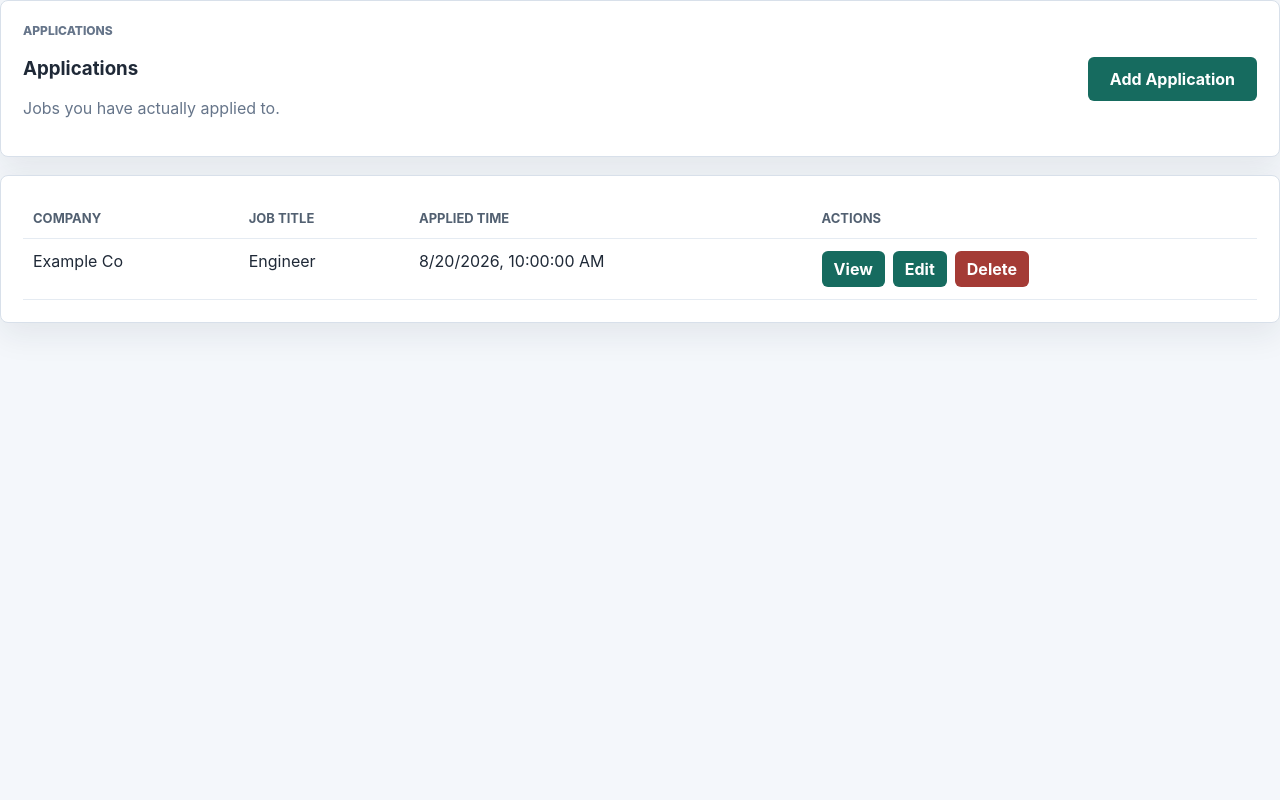
Test: Version 2.2.0 Applications › saves Company Updated Co and Position Updated Role and immediately updates the list
The image size is (1280, 800).
Expected: the text "Example Co" is shown, [23,239,239,300]
Click the button "Edit" at (920, 269), box [893,251,947,287]
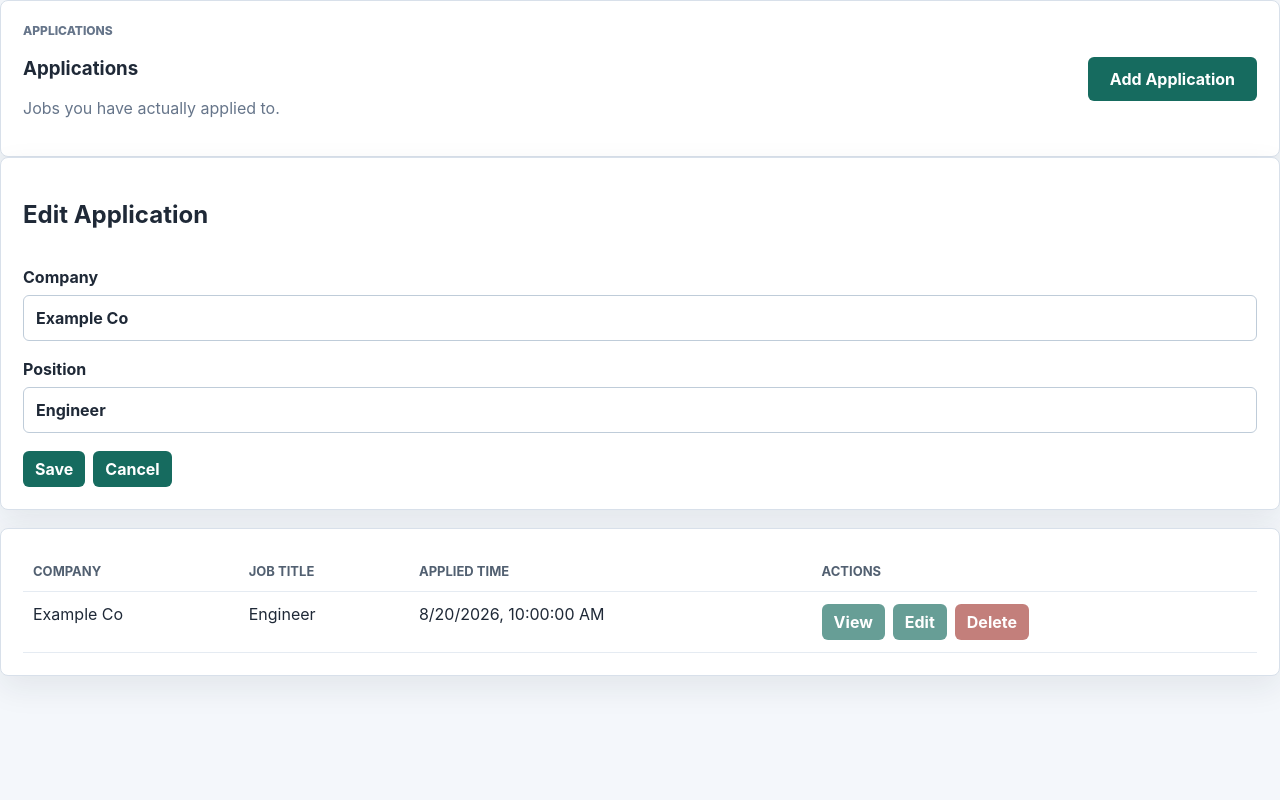
Replace the text in the field labelled "Company" with "Updated Co" at (640, 318), box [23,295,1257,341]
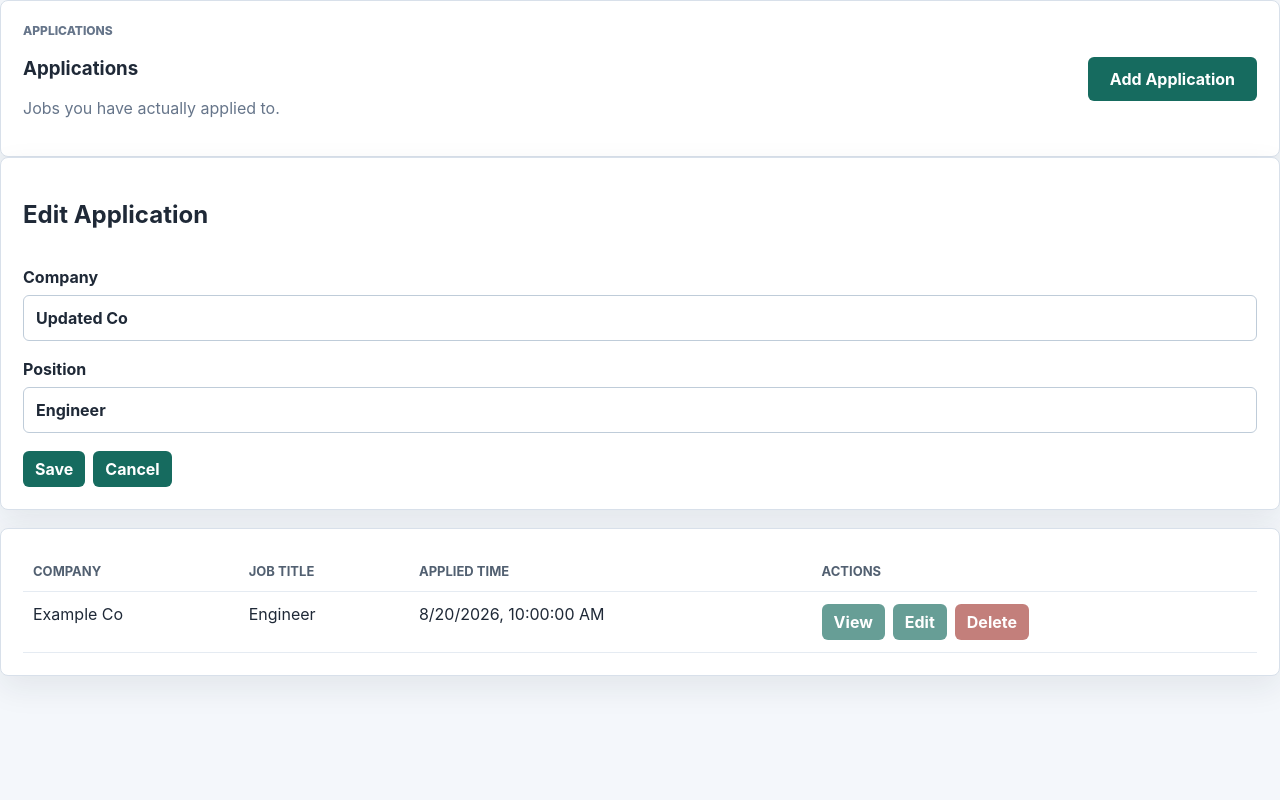
Replace the text in the field labelled "Position" with "Updated Role" at (640, 410), box [23,387,1257,433]
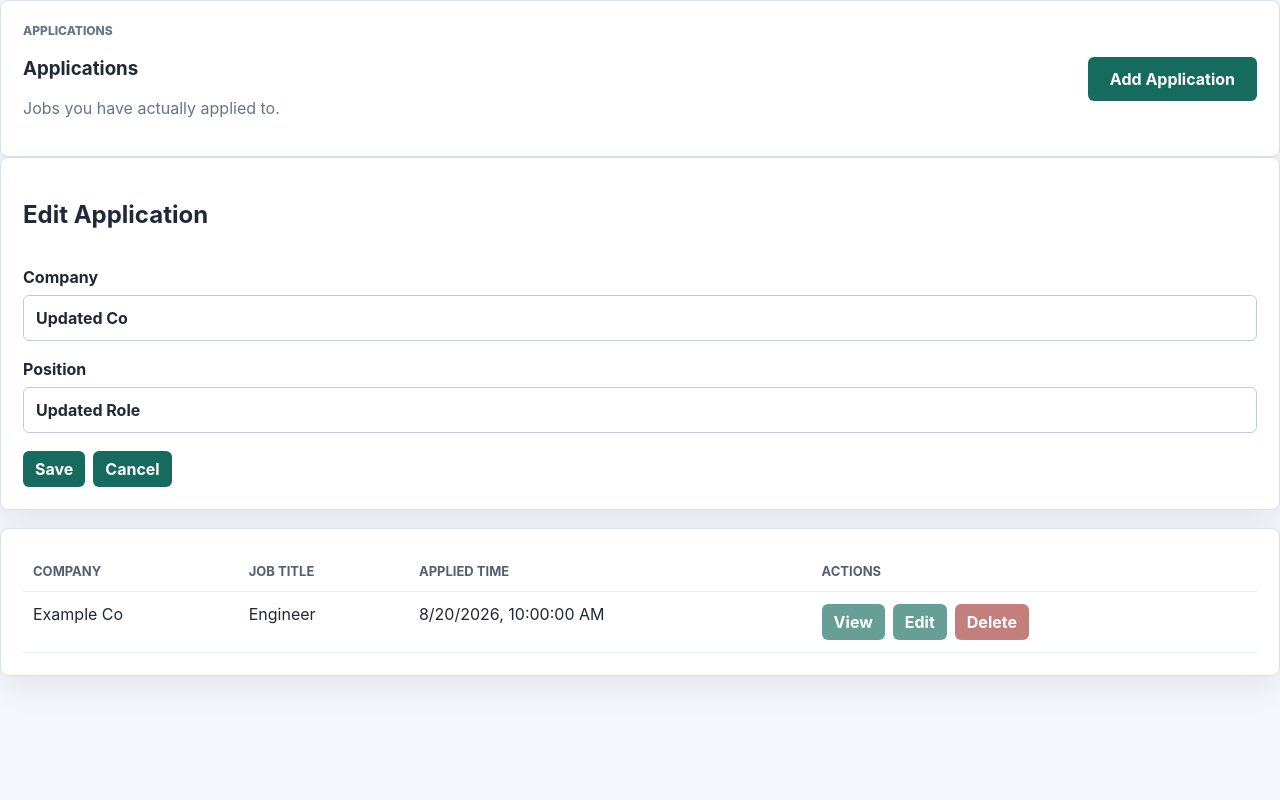
Click the button "Save" at (54, 469), box [23,451,85,487]
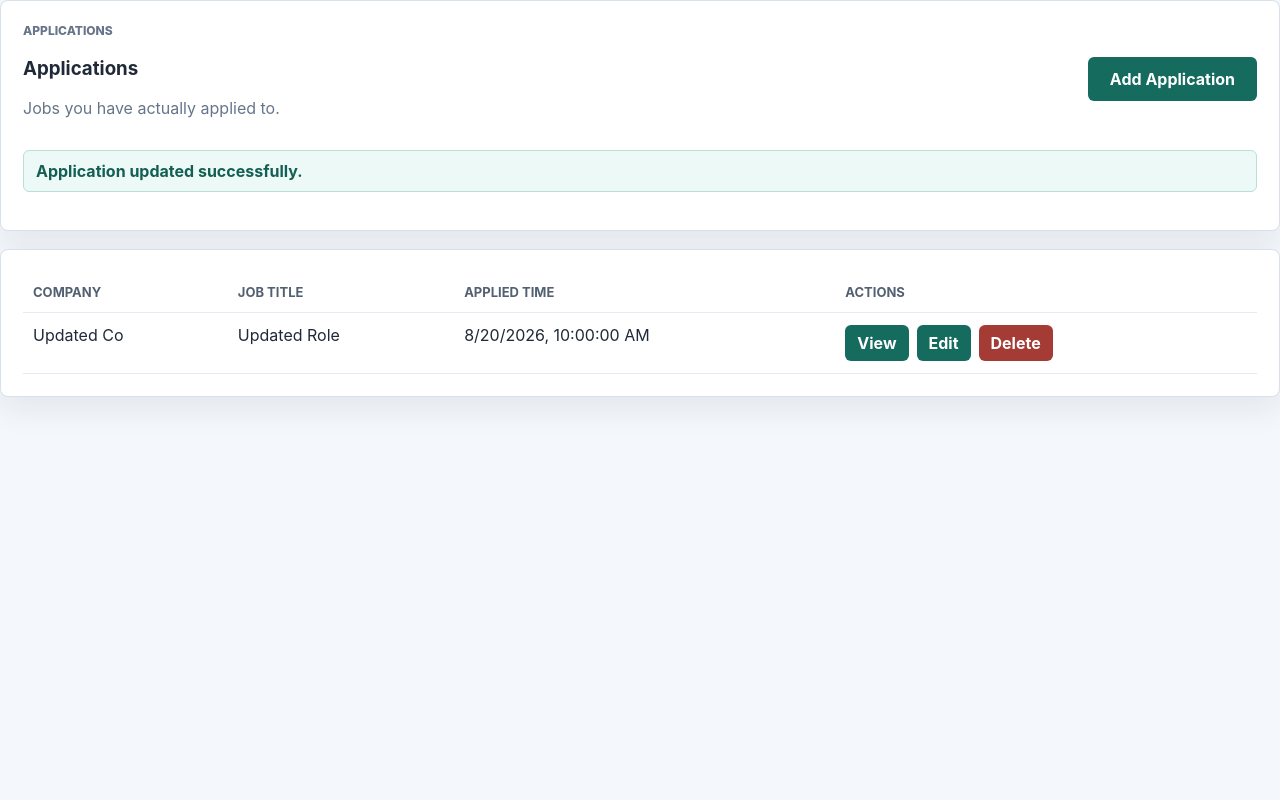
Result: the text "Application updated successfully." is shown at [23,150,1257,192]
Result: the text "Updated Co" is shown at [23,313,228,374]
Result: the text "Updated Role" is shown at [228,313,454,374]
Click the button "Edit" at (944, 343), box [916,325,970,361]
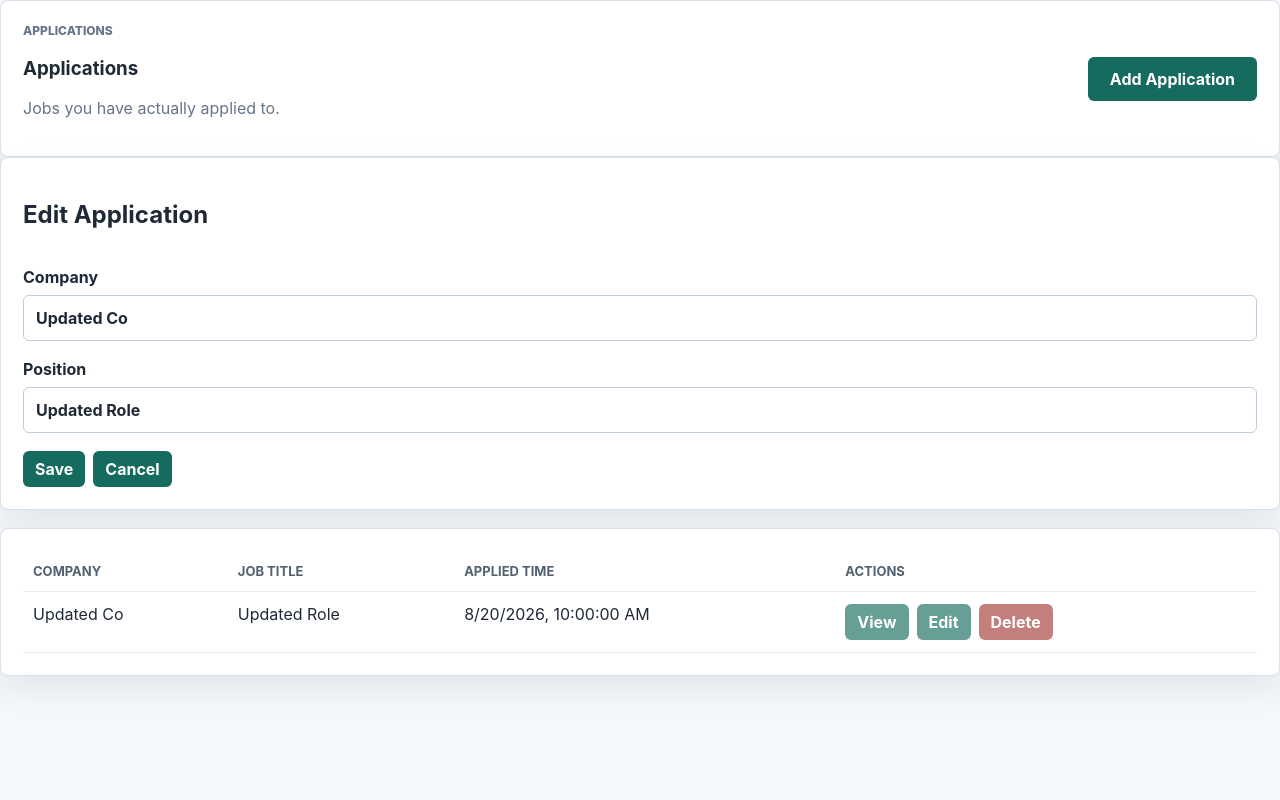
Result: the field labelled "Company" holds "Updated Co" at [23,295,1257,341]
Result: the field labelled "Position" holds "Updated Role" at [23,387,1257,433]
